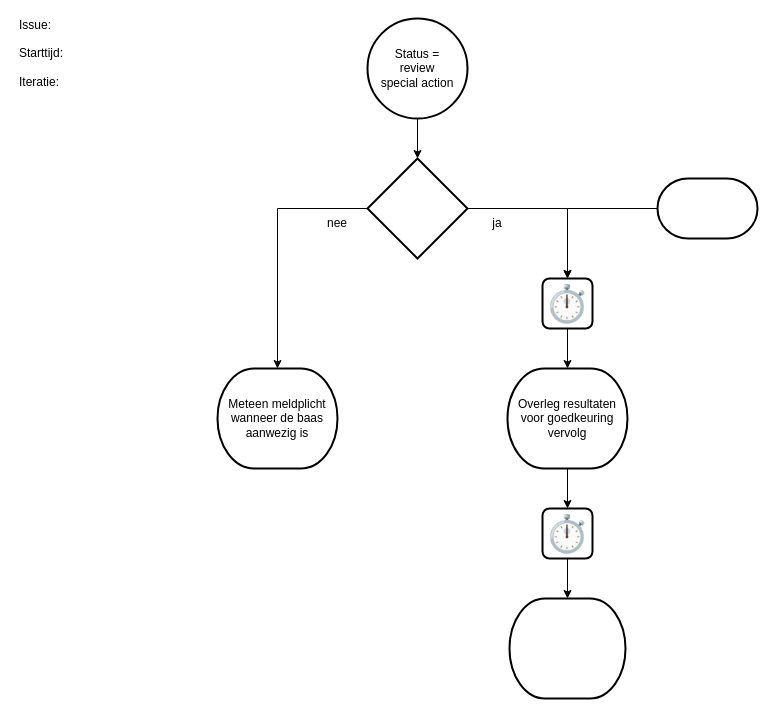
Some shapes in this 775 by 716 pixel diagram are drawn without their labels. The shapes that lost their labels are listed below. From the top down, each one's centre as x and y in pixels, then its label:
At pixel 417 208: "Is de baas aanwezig?".
At pixel 707 208: "Na dat de baas weer aanwezig is".
At pixel 567 648: "De baas bepaald volgende status en verifieert effort per resterende fase".
